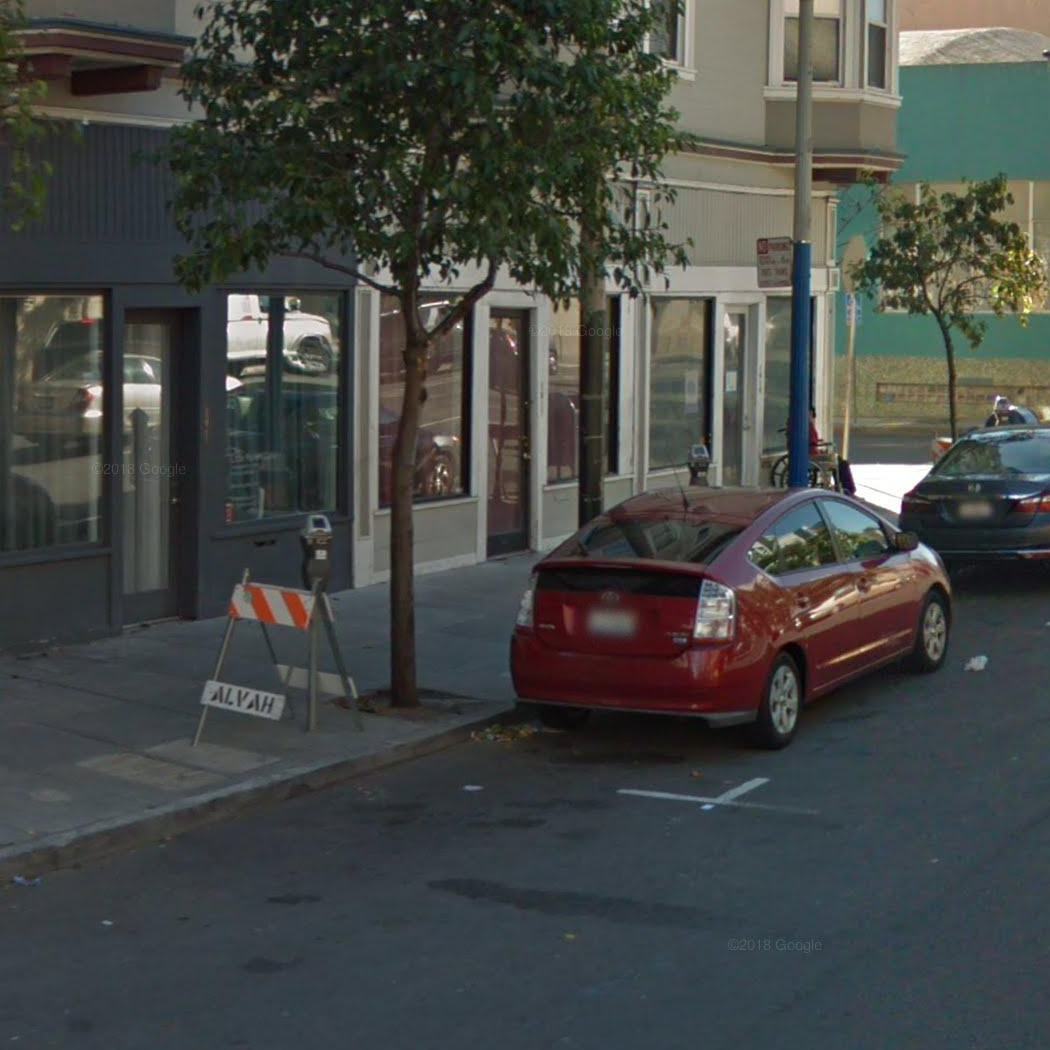No Parking: (755, 235, 794, 289)
